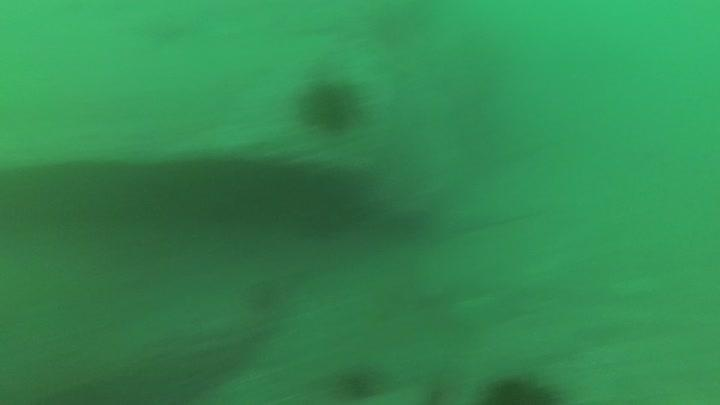echinus: (295, 74, 368, 137), (478, 370, 565, 405), (331, 361, 389, 402)
